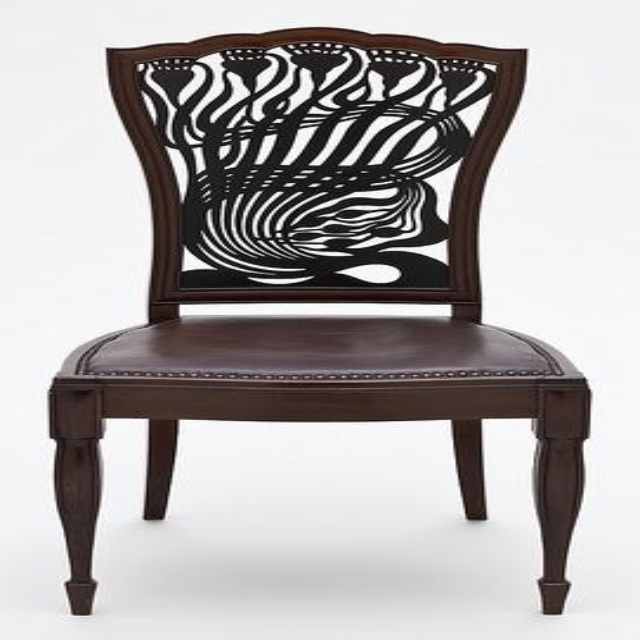obstacle: (50, 28, 588, 613)
